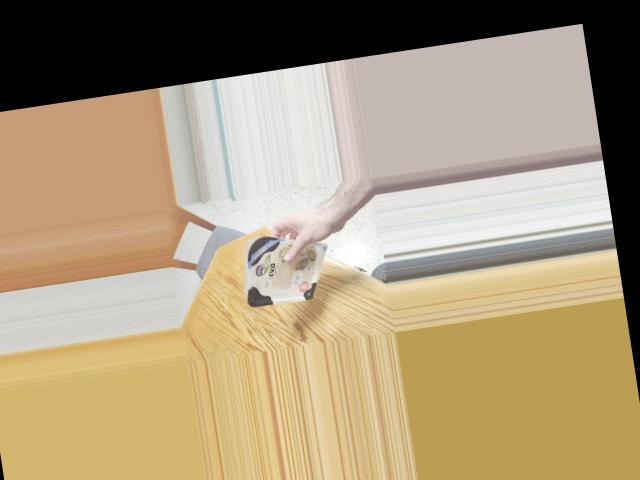cheese: (237, 239, 327, 302)
